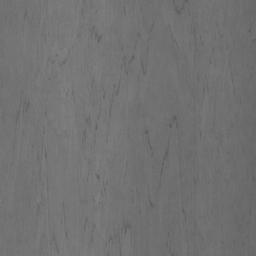Silk spot: (1, 0, 256, 256), (221, 208, 251, 245), (131, 188, 155, 214)
